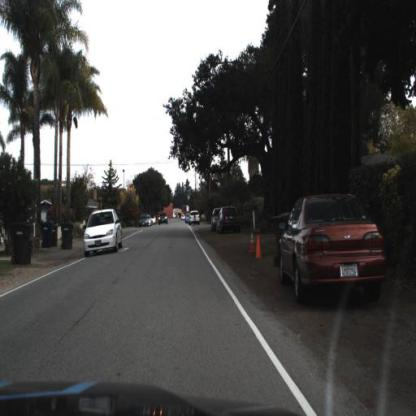car: (275, 193, 385, 302), (278, 193, 385, 302), (82, 208, 123, 258), (84, 209, 124, 256), (217, 206, 242, 233), (158, 212, 171, 229), (189, 211, 201, 226)
